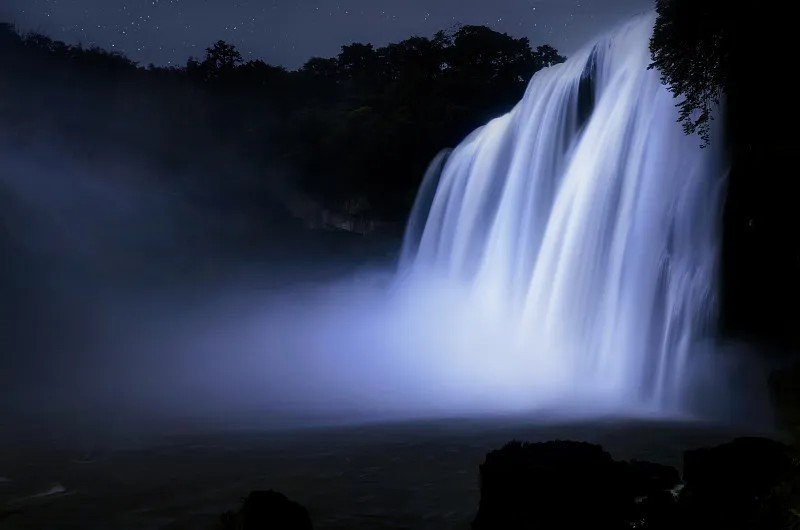Huangguoshu: (398, 12, 720, 417)
